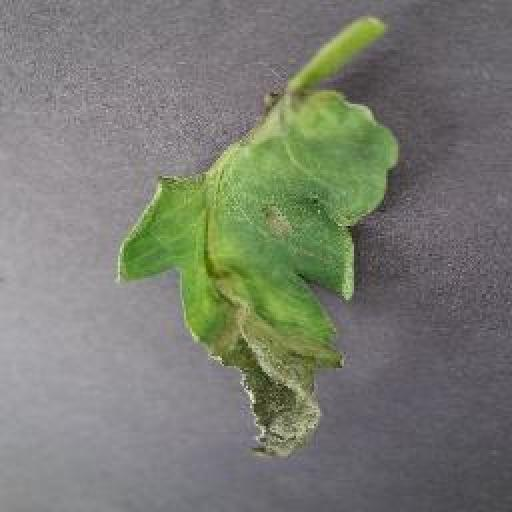disease_tomato: (108, 88, 399, 459)
